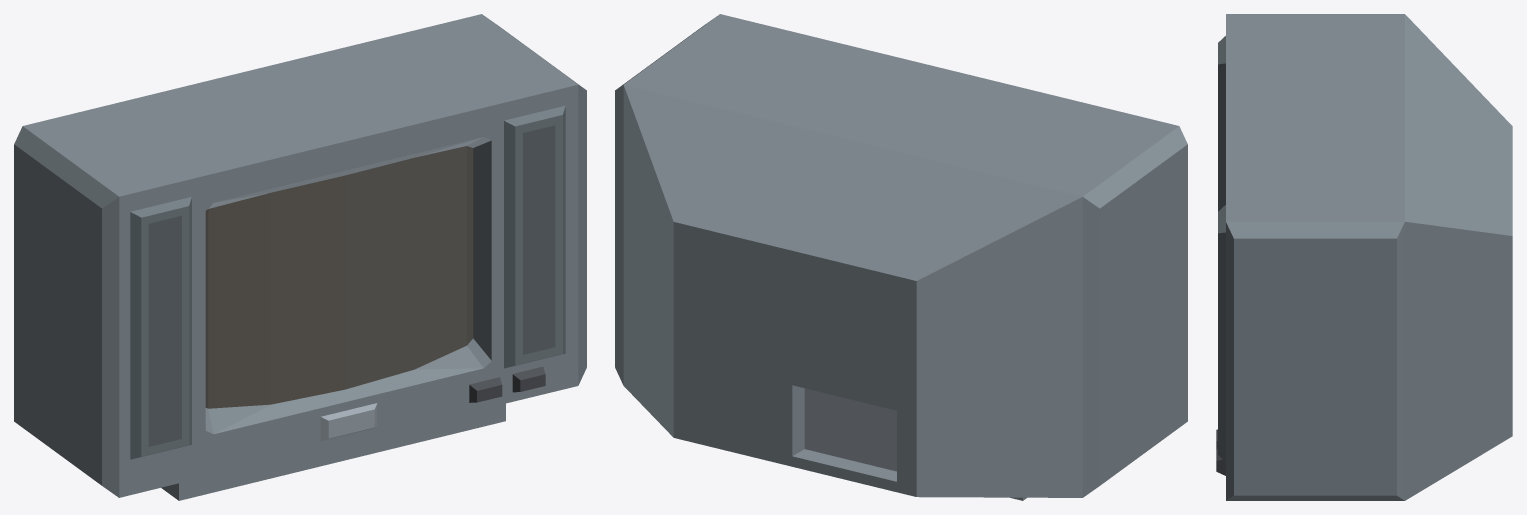
The model's file is SM_Prop_Electronics_Tv_04.glb.
3 views of the same model, side by side, from view 1: azimuth 30°, elevation 25°; view 2: azimuth 150°, elevation 25°; view 3: azimuth 270°, elevation 25° (orthographic). The views are drawn at different scales.
Parts seen in each view (by area): view 1: SM_Prop_Electronics_Tv_04; view 2: SM_Prop_Electronics_Tv_04; view 3: SM_Prop_Electronics_Tv_04.
Part boxes in pixels (x1,y1,x2,y2): SM_Prop_Electronics_Tv_04: [14, 14, 586, 500]; SM_Prop_Electronics_Tv_04: [615, 14, 1187, 500]; SM_Prop_Electronics_Tv_04: [1216, 14, 1512, 500].
Bounding box in the file's own units: 0.9105 × 0.5832 × 0.5197.
1 material, 1 textured.
